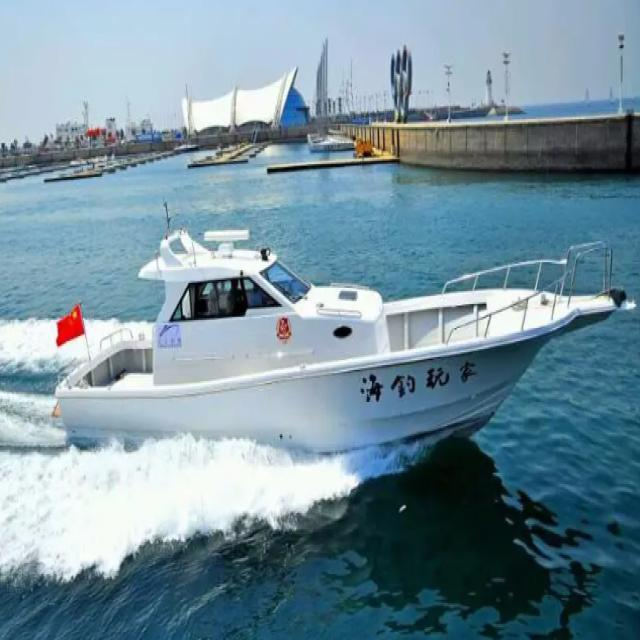houseboat: (45, 211, 639, 452)
